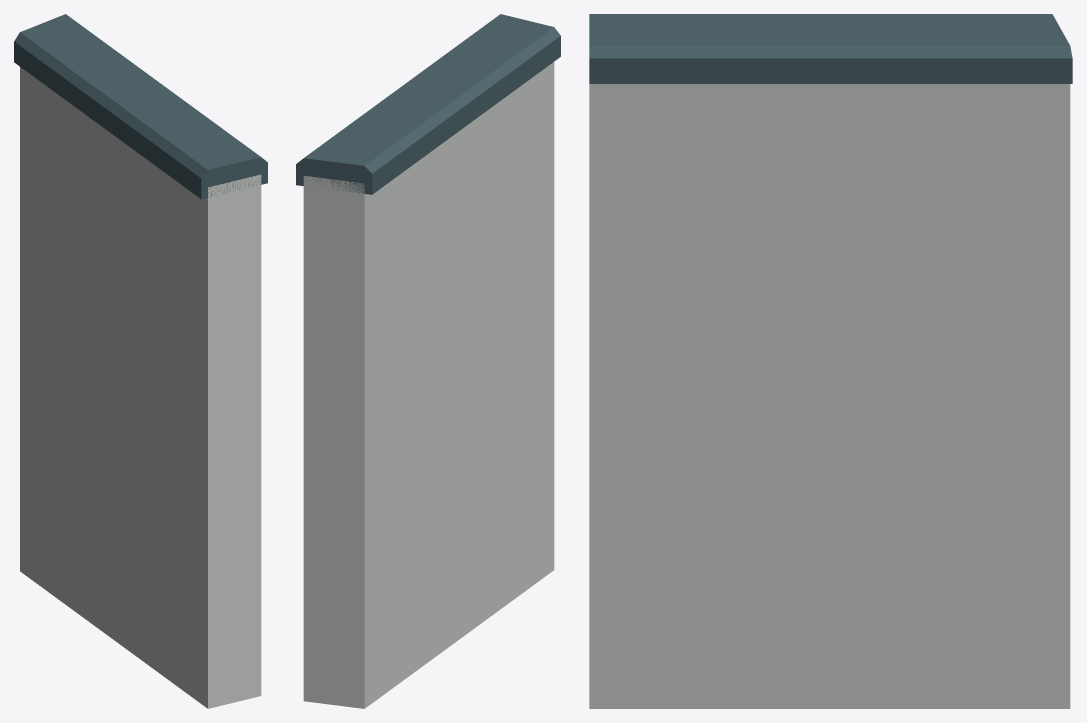
The model's file is halfwall_straight_50cm_miter_10000_0_10000_2361.glb.
The picture shows the model from 3 angles, left to right: view 1: azimuth 30°, elevation 25°; view 2: azimuth 150°, elevation 25°; view 3: azimuth 270°, elevation 25°; orthographic projection. The views are drawn at different scales.
Parts seen in each view (by area): view 1: Seamless solid halfwall.051, Seamless top cap.051; view 2: Seamless solid halfwall.051, Seamless top cap.051; view 3: Seamless solid halfwall.051, Seamless top cap.051.
Part boxes in pixels (x1,y1,x2,y2): Seamless solid halfwall.051: [20, 67, 261, 708]; Seamless top cap.051: [14, 14, 267, 199]; Seamless solid halfwall.051: [303, 62, 554, 708]; Seamless top cap.051: [296, 14, 560, 194]; Seamless solid halfwall.051: [589, 84, 1070, 708]; Seamless top cap.051: [589, 14, 1072, 83].
Size of the model in its own units: 0.1 by 0.775 by 0.5118.
